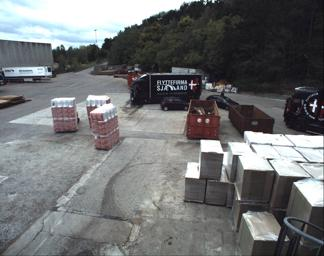rockwool_batts: (90, 105, 119, 148), (48, 94, 77, 131), (86, 92, 107, 112)
